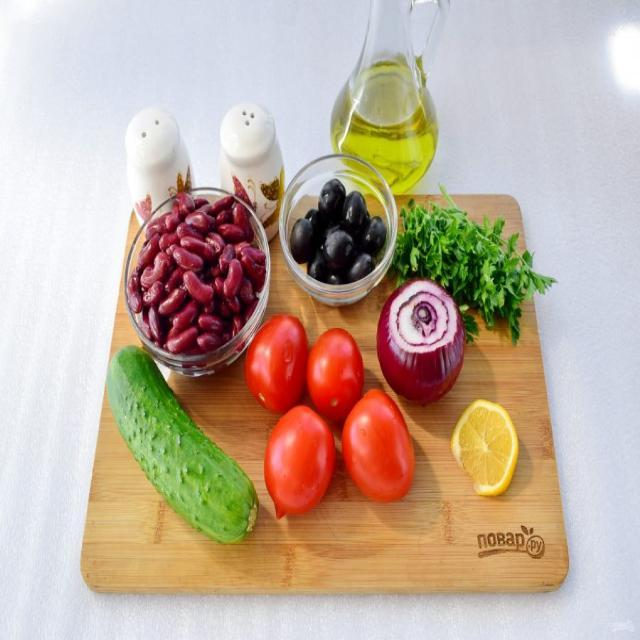cucumber: (101, 360, 257, 539)
onion: (381, 286, 467, 392)
tomato: (342, 397, 416, 501), (267, 414, 332, 514), (248, 316, 304, 404), (310, 319, 361, 413)
